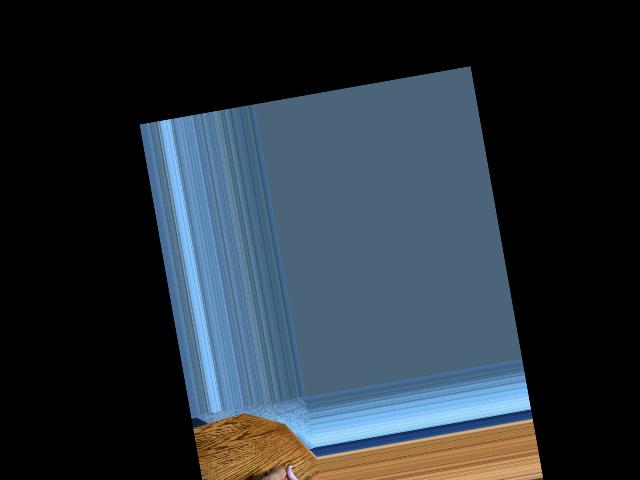sweet_potato: (258, 467, 291, 480)
